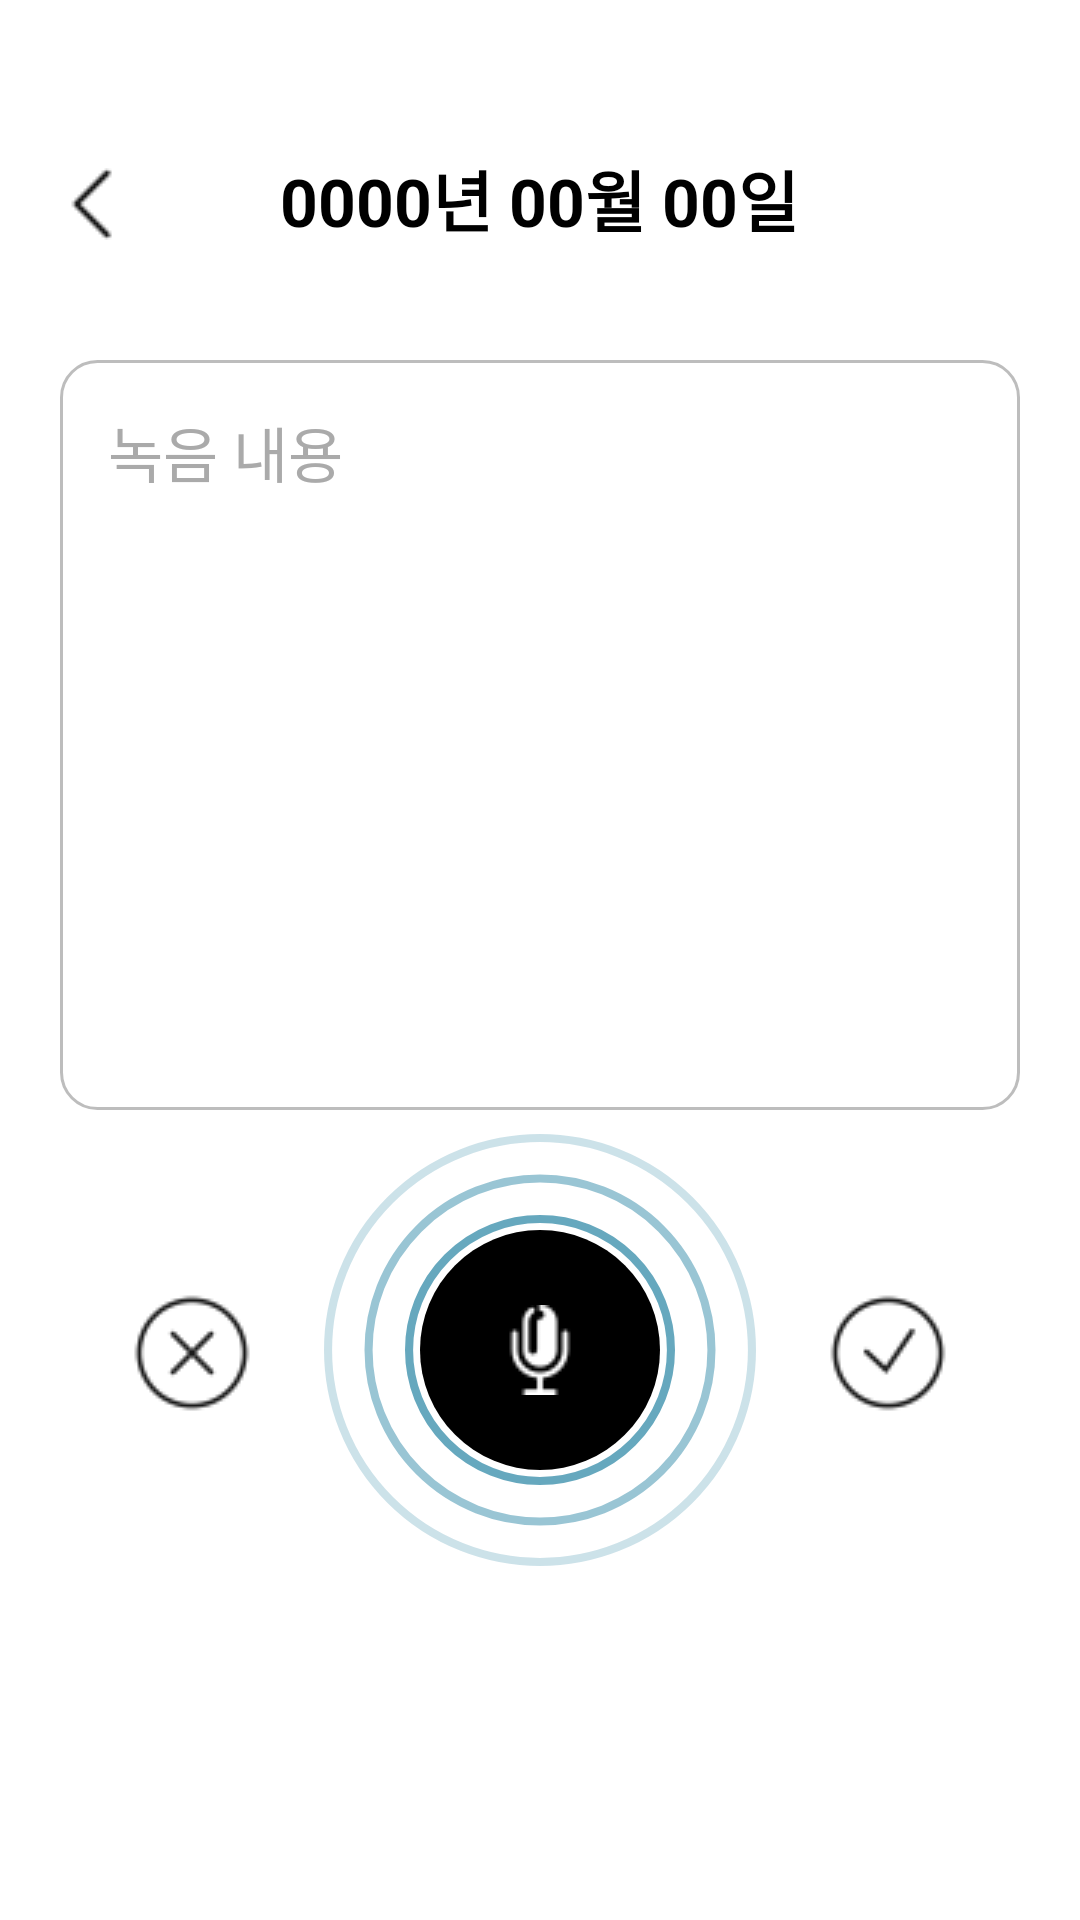

Locate icon controls on the screen. Image size 1080 x 1920, boxes as (x1, y1, x2, y2).
녹음 완료 및 일정추가페이지로 이동: (830, 1295, 946, 1411)
녹음 취소: (134, 1295, 250, 1411)
뒤로 가기: (72, 169, 112, 239)
